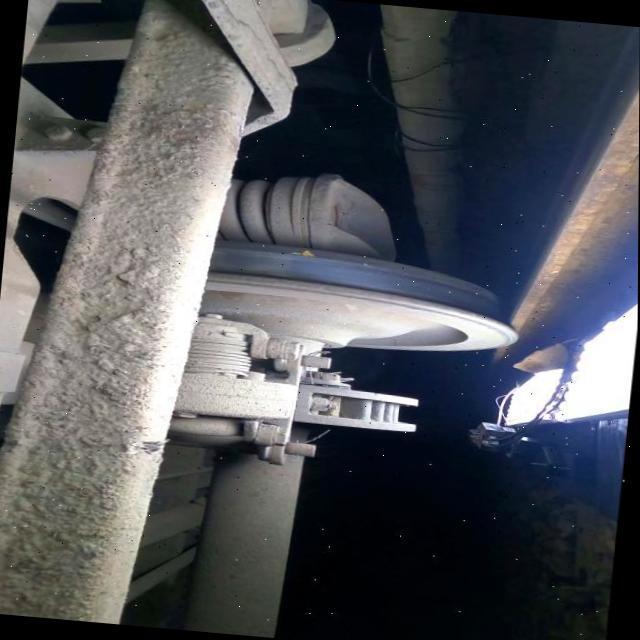Cracks-Scratches: (287, 250, 317, 257)
Shelling: (210, 248, 292, 277)
Wheel: (201, 240, 517, 351)
